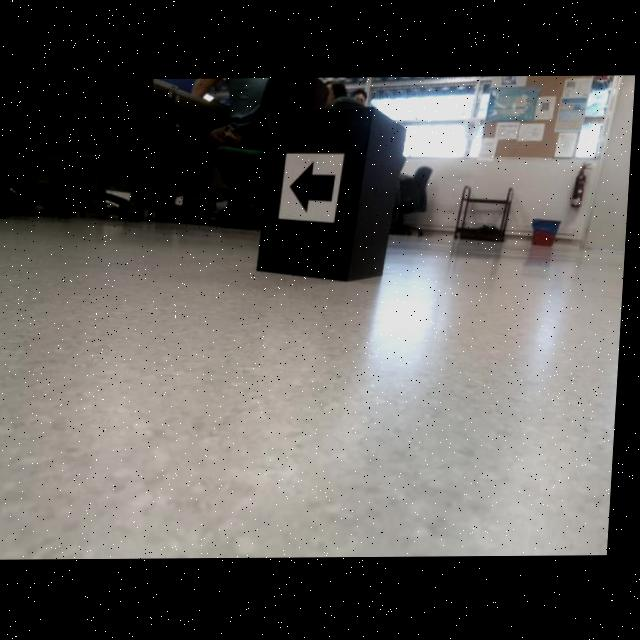LEFT: (291, 160, 338, 214)
